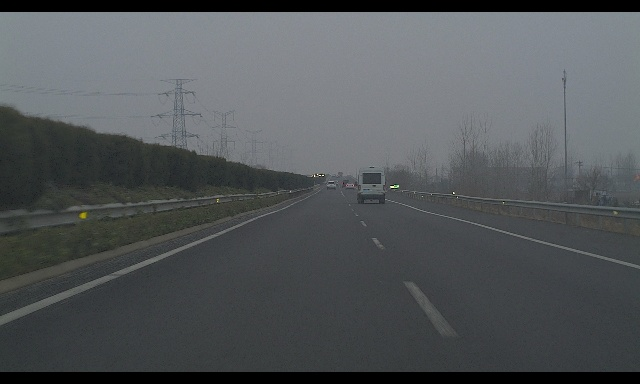car: (355, 166, 385, 204), (326, 181, 336, 190), (342, 180, 349, 188), (345, 183, 354, 189), (332, 180, 339, 186)
